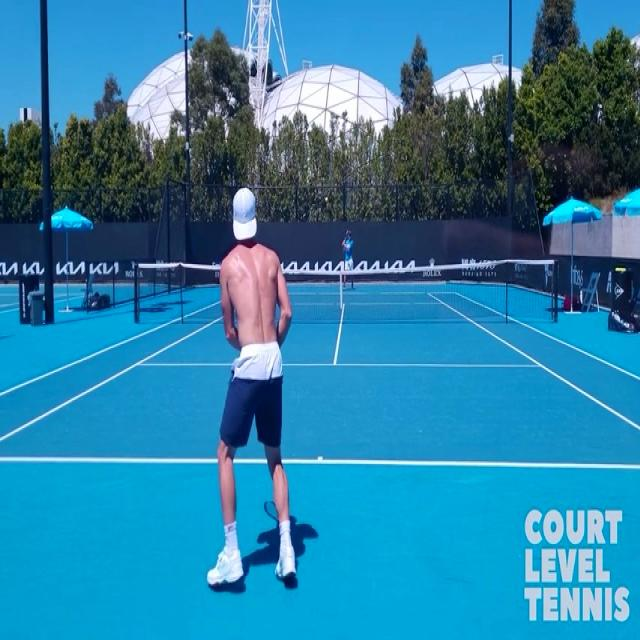ready-position: (206, 188, 299, 585)
